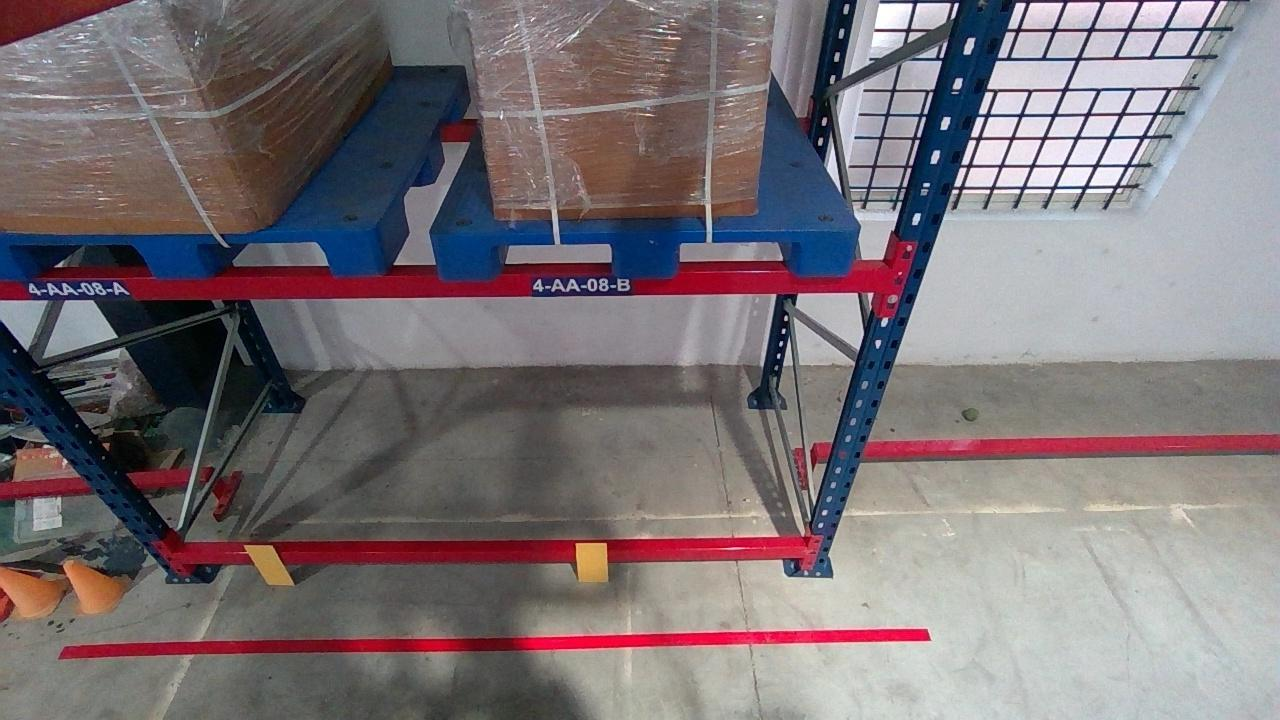h_rack: (1, 266, 897, 298), (174, 544, 811, 564)
orange_strip: (242, 544, 296, 585), (575, 542, 607, 582)
red_line: (56, 629, 931, 655)
small_pallet: (435, 227, 859, 276), (0, 231, 384, 279)
